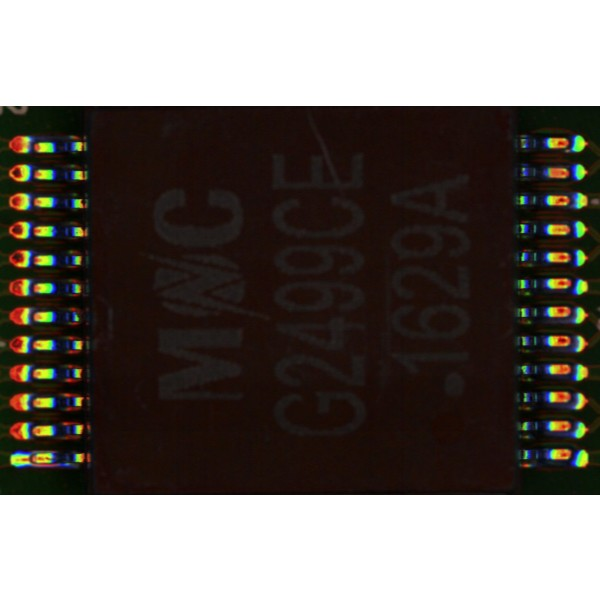Bad_podu: (20, 455, 36, 464)
Bad_qiaojiao: (33, 463, 75, 468)
